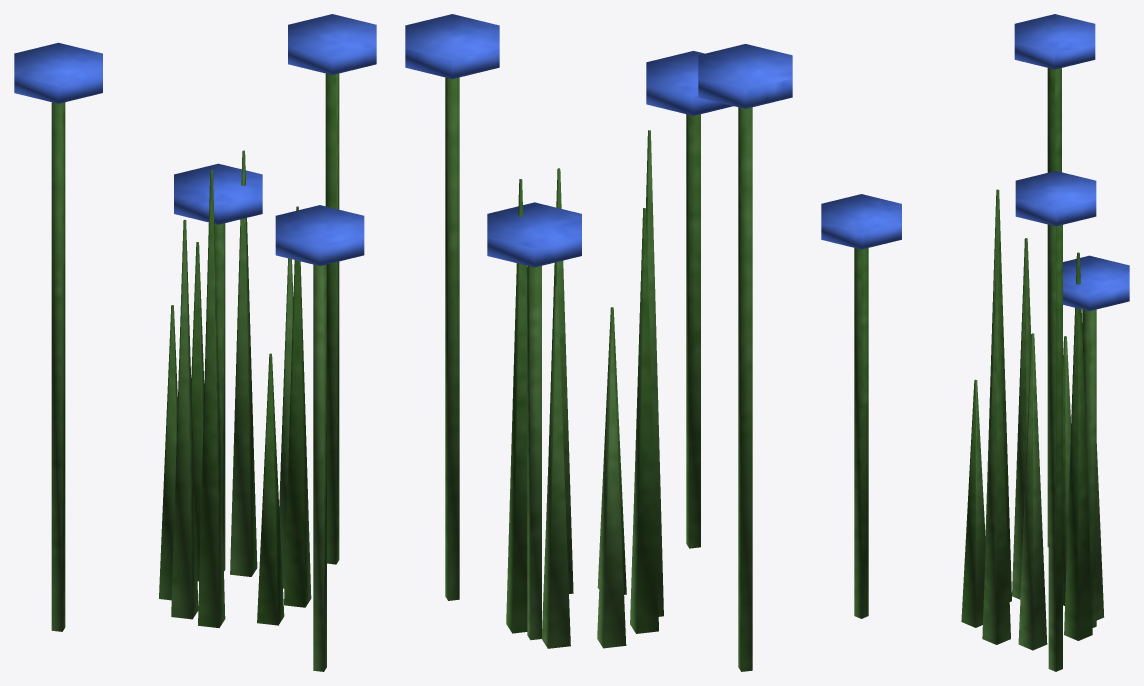
The model's file is wildflower_tuft_1.glb.
3 views of the same model, side by side, from view 1: azimuth 30°, elevation 25°; view 2: azimuth 150°, elevation 25°; view 3: azimuth 270°, elevation 25° (orthographic). The views are drawn at different scales.
Parts seen in each view (by area): view 1: wildflower_tuft_1; view 2: wildflower_tuft_1; view 3: wildflower_tuft_1.
Part boxes in pixels (x1=…): wildflower_tuft_1: x1=14, y1=14, x2=376, y2=671; wildflower_tuft_1: x1=405, y1=14, x2=792, y2=671; wildflower_tuft_1: x1=821, y1=14, x2=1129, y2=671.
Size of the model in its own units: 0.5321 by 0.7907 by 0.4307.
2 materials, 2 textured.
